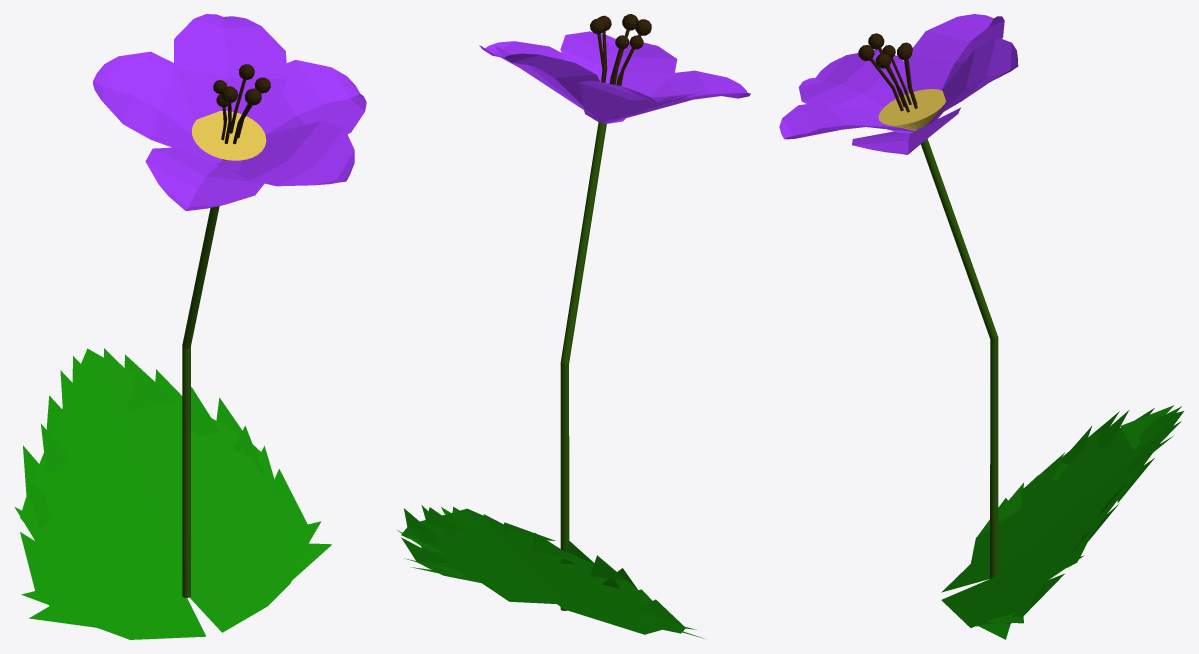
Rendered from violet_FINAL.fbx.
The picture shows the model from 3 angles, left to right: view 1: azimuth 30°, elevation 25°; view 2: azimuth 150°, elevation 25°; view 3: azimuth 270°, elevation 25°; orthographic projection. The views are drawn at different scales.
Visible parts, largest first — view 1: violet.complete; view 2: violet.complete; view 3: violet.complete.
Part boxes in pixels (x1,y1,x2,y2): violet.complete: (14, 14, 366, 639); violet.complete: (397, 14, 750, 638); violet.complete: (779, 14, 1183, 639).
Bounding box in the file's own units: 10.1 × 18.57 × 12.16.
